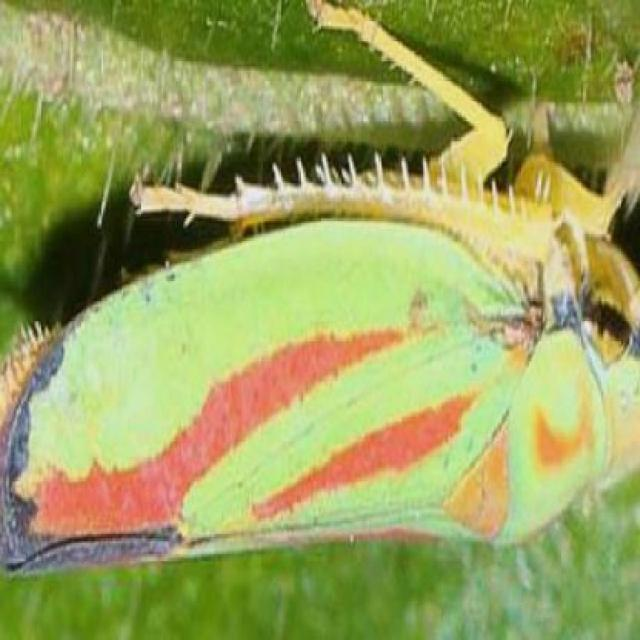green-leafhopper: (2, 178, 623, 553)
